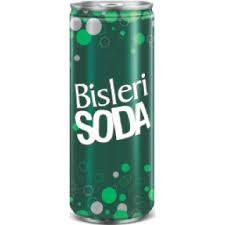Aluminum can: (58, 4, 163, 225)
